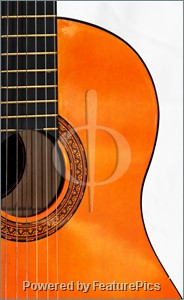guitar: (1, 2, 184, 299)
